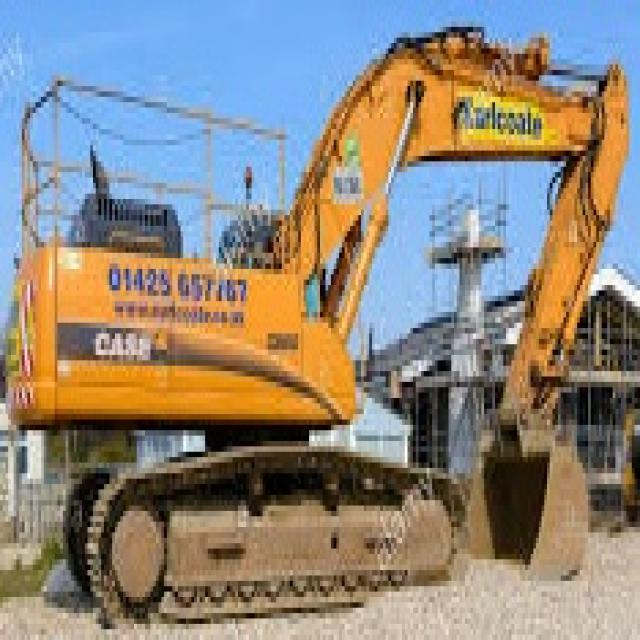excavator: (11, 10, 618, 626)
